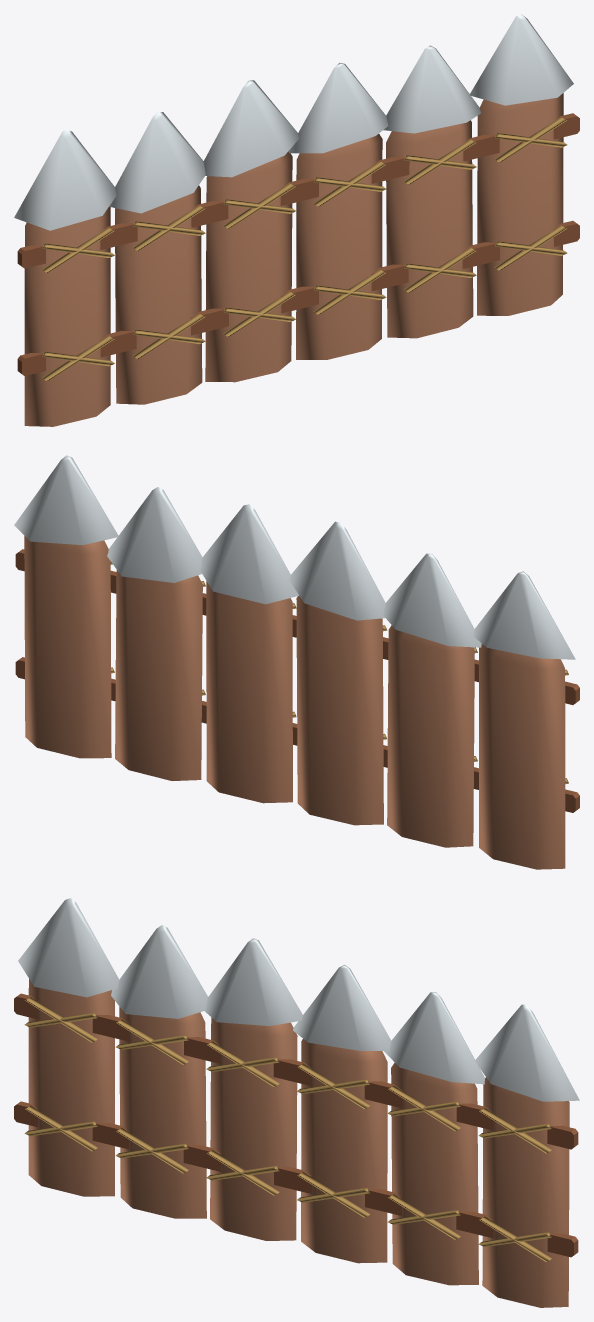
File: opening_fence_panel.obj
The picture shows the model from 3 angles, top to bottom: view 1: azimuth 30°, elevation 25°; view 2: azimuth 150°, elevation 25°; view 3: azimuth 330°, elevation 25°; orthographic projection.
Parts seen in each view (by area): view 1: opening_fence_panel; view 2: opening_fence_panel; view 3: opening_fence_panel.
Boxes of the visible parts, <box> form: opening_fence_panel: <box>14,14,579,426</box>; opening_fence_panel: <box>14,455,579,869</box>; opening_fence_panel: <box>14,898,579,1307</box>.
Size of the model in its own units: 2.95 by 1.46 by 0.2056.
